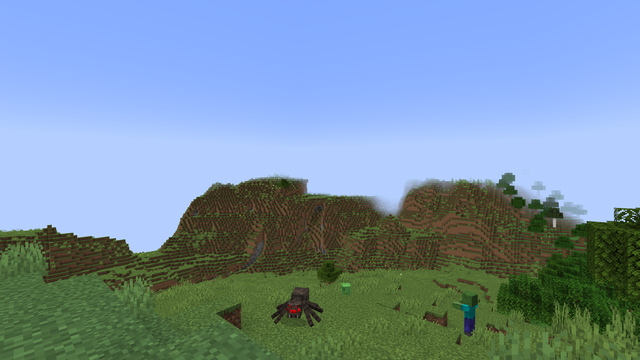araignees: (273, 285, 321, 330)
slimes: (339, 281, 351, 295)
zombies: (461, 290, 477, 338)
